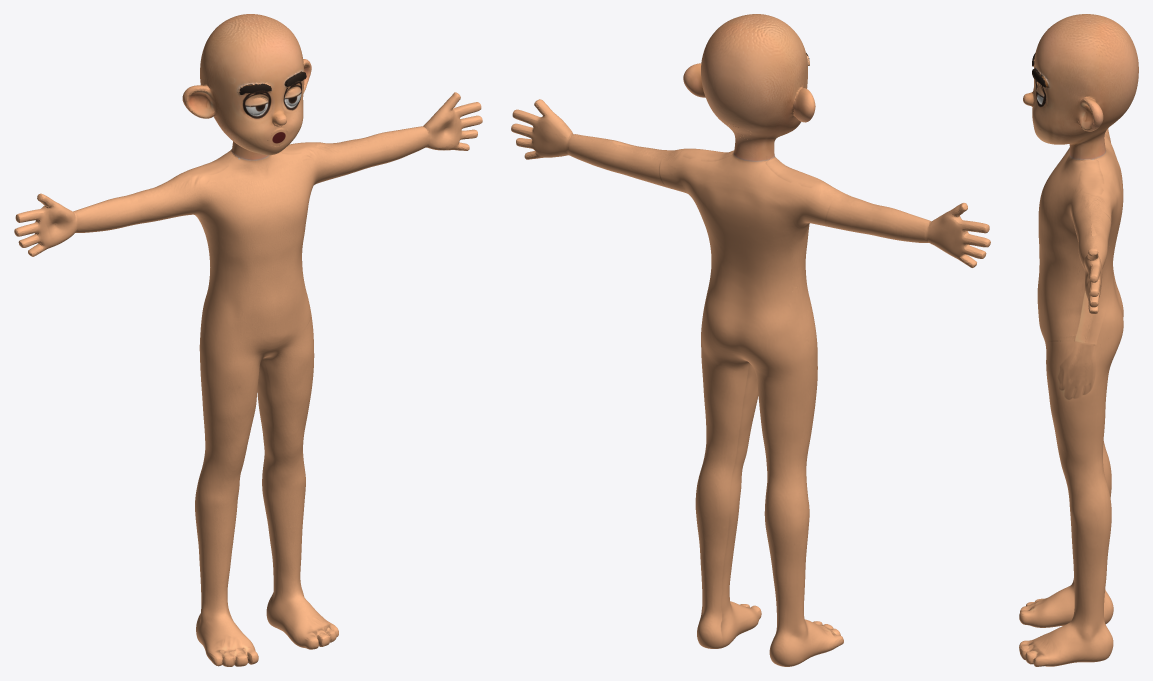
Rendered from nam-002.glb.
The picture shows the model from 3 angles, left to right: view 1: azimuth 30°, elevation 25°; view 2: azimuth 150°, elevation 25°; view 3: azimuth 270°, elevation 25°; orthographic projection. The views are drawn at different scales.
Visible parts, largest first — view 1: model; view 2: model; view 3: model.
Boxes of the visible parts, bbox=[...] form: model: bbox=[14, 14, 482, 666]; model: bbox=[511, 14, 990, 666]; model: bbox=[1019, 14, 1138, 666].
Bounding box in the file's own units: 1.35 × 1.7 × 0.2974.
Materials: 1 (1 with a texture image).
